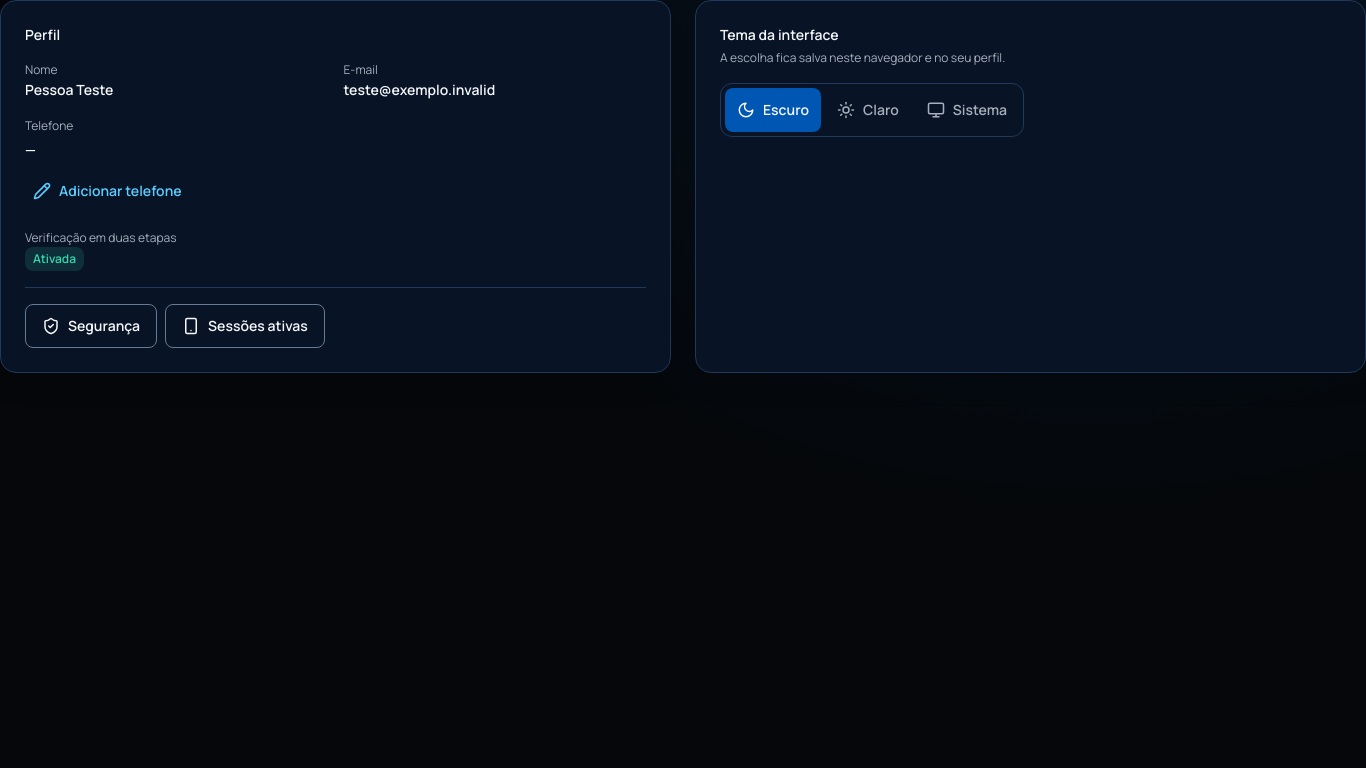
Test: Minha conta — telefone › inválido (1190000): mostra o erro e não envia
This screenshot has width=1366, height=768.
Click the button "Adicionar telefone".
click(107, 191)  # box [25,169,190,213]
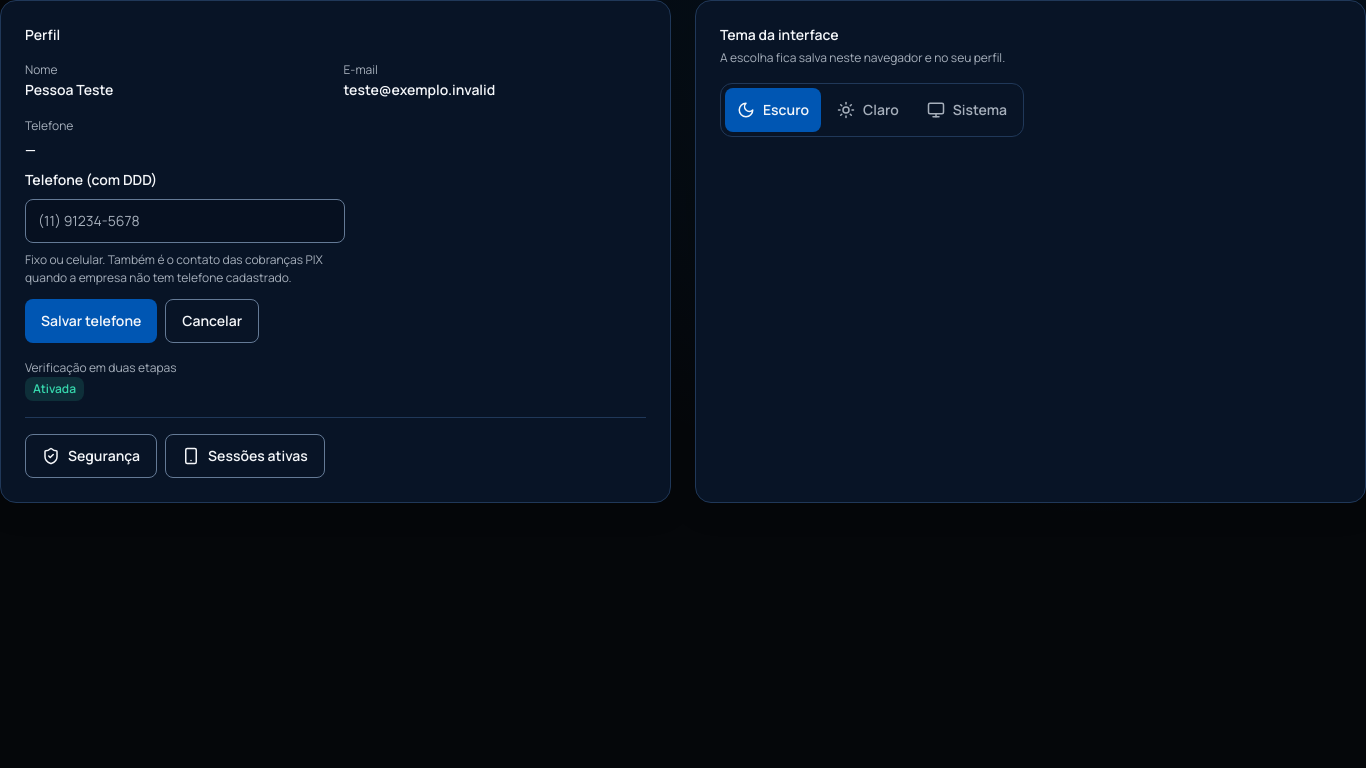
Type "1190000" into the field labelled "Telefone (com DDD)".
click(185, 221); type("1190000")  # box [25,199,345,243]
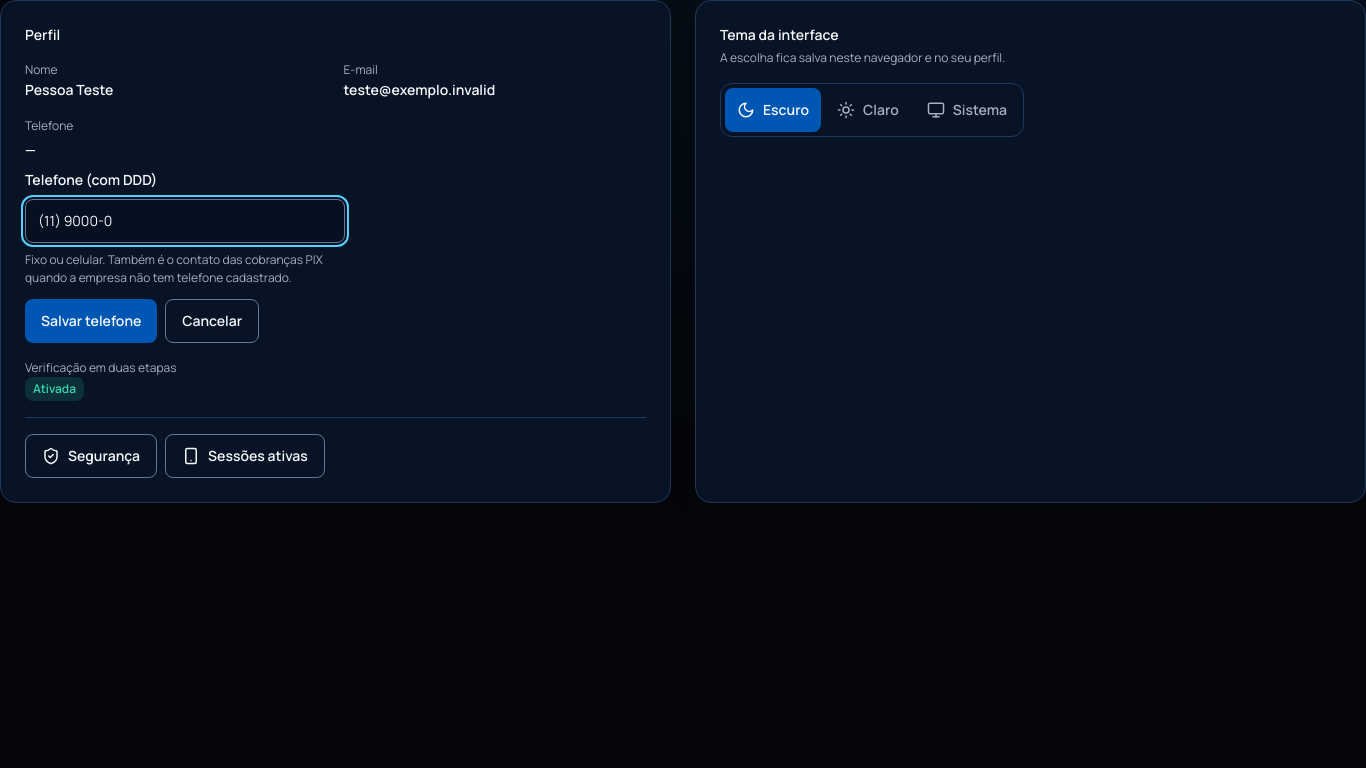
Click the button "Salvar telefone".
click(91, 321)  # box [25,299,157,343]
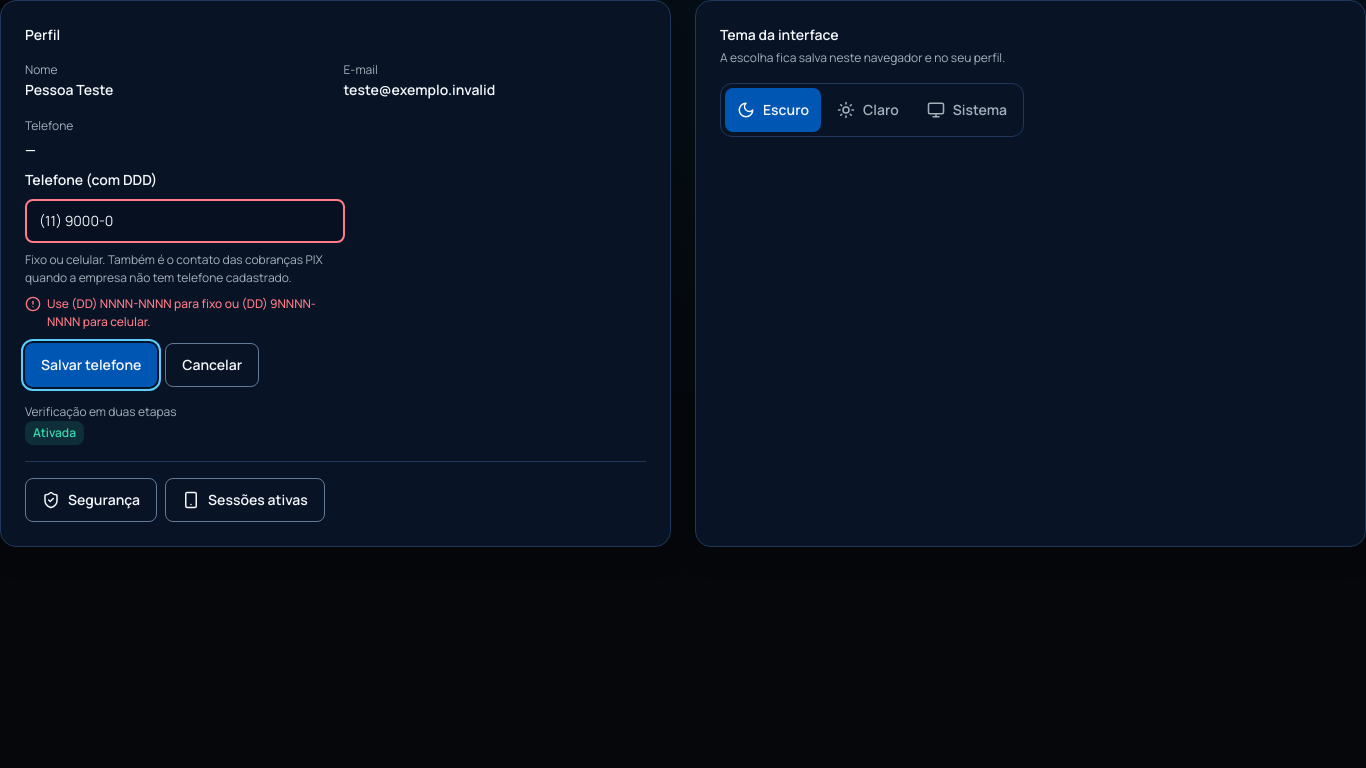
Now the text "Use (DD) NNNN-NNNN para fixo ou (DD) 9NNNN-NNNN para celular." is shown, box [47,295,345,331]
